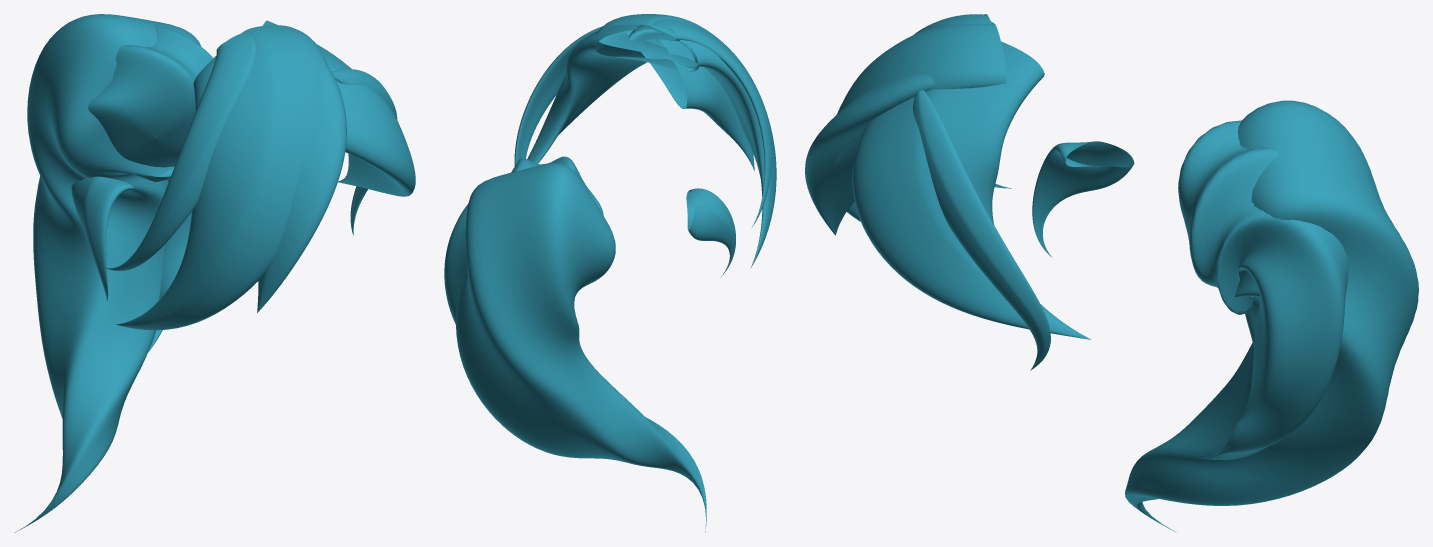
The model's file is femhead2 13-11-20.fbx.
3 renders of one model, left to right at view 1: azimuth 30°, elevation 25°; view 2: azimuth 150°, elevation 25°; view 3: azimuth 270°, elevation 25°, orthographic. The views are drawn at different scales.
Parts seen in each view (by area): view 1: NurbsPath, NurbsPath.001, NurbsPath.007, NurbsPath.003, NurbsPath.006, NurbsPath.002, NurbsPath.004, NurbsPath.005; view 2: NurbsPath, NurbsPath.002, NurbsPath.001, NurbsPath.006, NurbsPath.003, NurbsPath.005, NurbsPath.004, NurbsPath.007; view 3: NurbsPath, NurbsPath.007, NurbsPath.002, NurbsPath.005, NurbsPath.001, NurbsPath.006, NurbsPath.004.
Part boxes in pixels (x1,y1,x2,y2): NurbsPath: (14, 14, 200, 532); NurbsPath.001: (116, 25, 327, 330); NurbsPath.007: (88, 25, 213, 358); NurbsPath.003: (105, 32, 255, 271); NurbsPath.006: (257, 62, 346, 312); NurbsPath.002: (262, 20, 415, 196); NurbsPath.004: (71, 176, 134, 301); NurbsPath.005: (332, 69, 397, 235); NurbsPath: (456, 163, 706, 532); NurbsPath.002: (527, 24, 698, 163); NurbsPath.001: (596, 14, 776, 268); NurbsPath.006: (625, 30, 754, 171); NurbsPath.003: (629, 19, 771, 226); NurbsPath.005: (514, 26, 605, 166); NurbsPath.004: (686, 188, 735, 277); NurbsPath.007: (444, 156, 603, 324); NurbsPath: (1125, 100, 1418, 531); NurbsPath.007: (1178, 120, 1348, 459); NurbsPath.002: (852, 41, 1091, 339); NurbsPath.005: (913, 90, 1050, 370); NurbsPath.001: (835, 22, 1006, 221); NurbsPath.006: (805, 74, 934, 235); NurbsPath.004: (1032, 141, 1134, 257).
Bounding box in the file's own units: 287 × 481 × 452.
